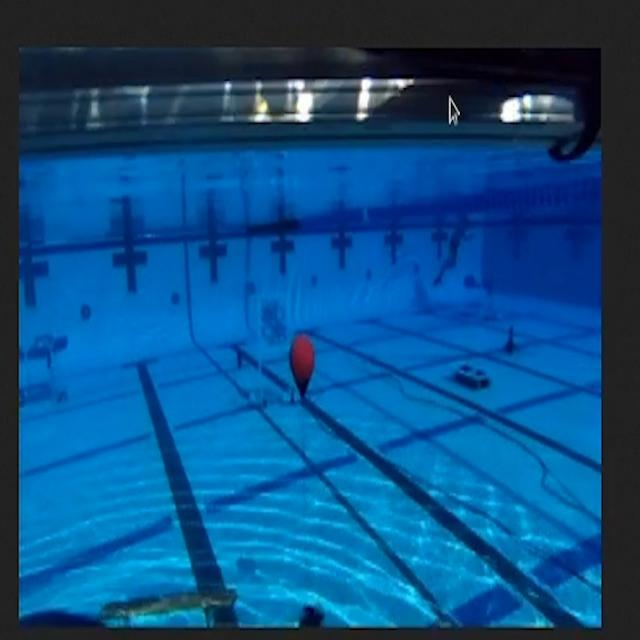Buoy: (290, 330, 318, 409)
